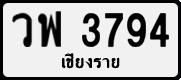letters: (37, 10, 62, 48), (12, 11, 33, 49), (148, 12, 170, 48), (81, 11, 101, 48), (104, 11, 124, 48), (126, 12, 146, 48)
province: (60, 52, 120, 70)
